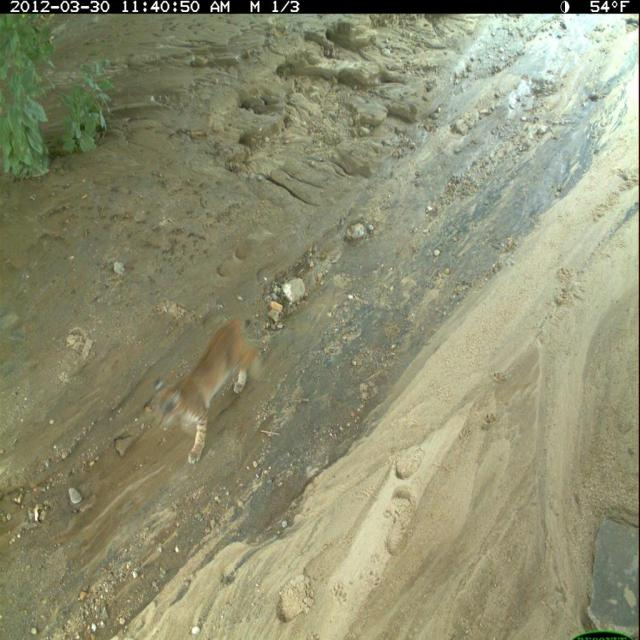bobcat: (152, 312, 263, 469)
